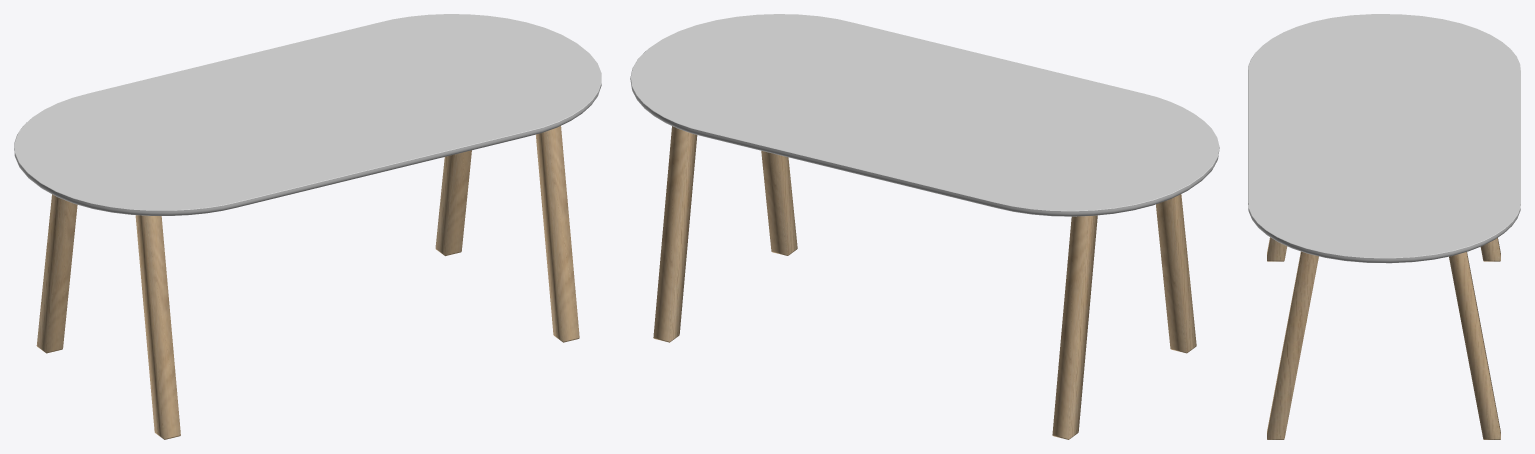
File: BGID02331.glb
3 views of the same model, side by side, from view 1: azimuth 30°, elevation 25°; view 2: azimuth 150°, elevation 25°; view 3: azimuth 270°, elevation 25° (orthographic). The views are drawn at different scales.
Visible parts, largest first — view 1: BP_BGID02331; view 2: BP_BGID02331; view 3: BP_BGID02331.
Part boxes in pixels (box(x1,y1,x2,y2)): BP_BGID02331: box(14, 14, 601, 439); BP_BGID02331: box(630, 14, 1219, 439); BP_BGID02331: box(1248, 14, 1520, 439).
Bounding box in the file's own units: 1.8 × 0.7269 × 0.85.
2 materials, 1 textured.
